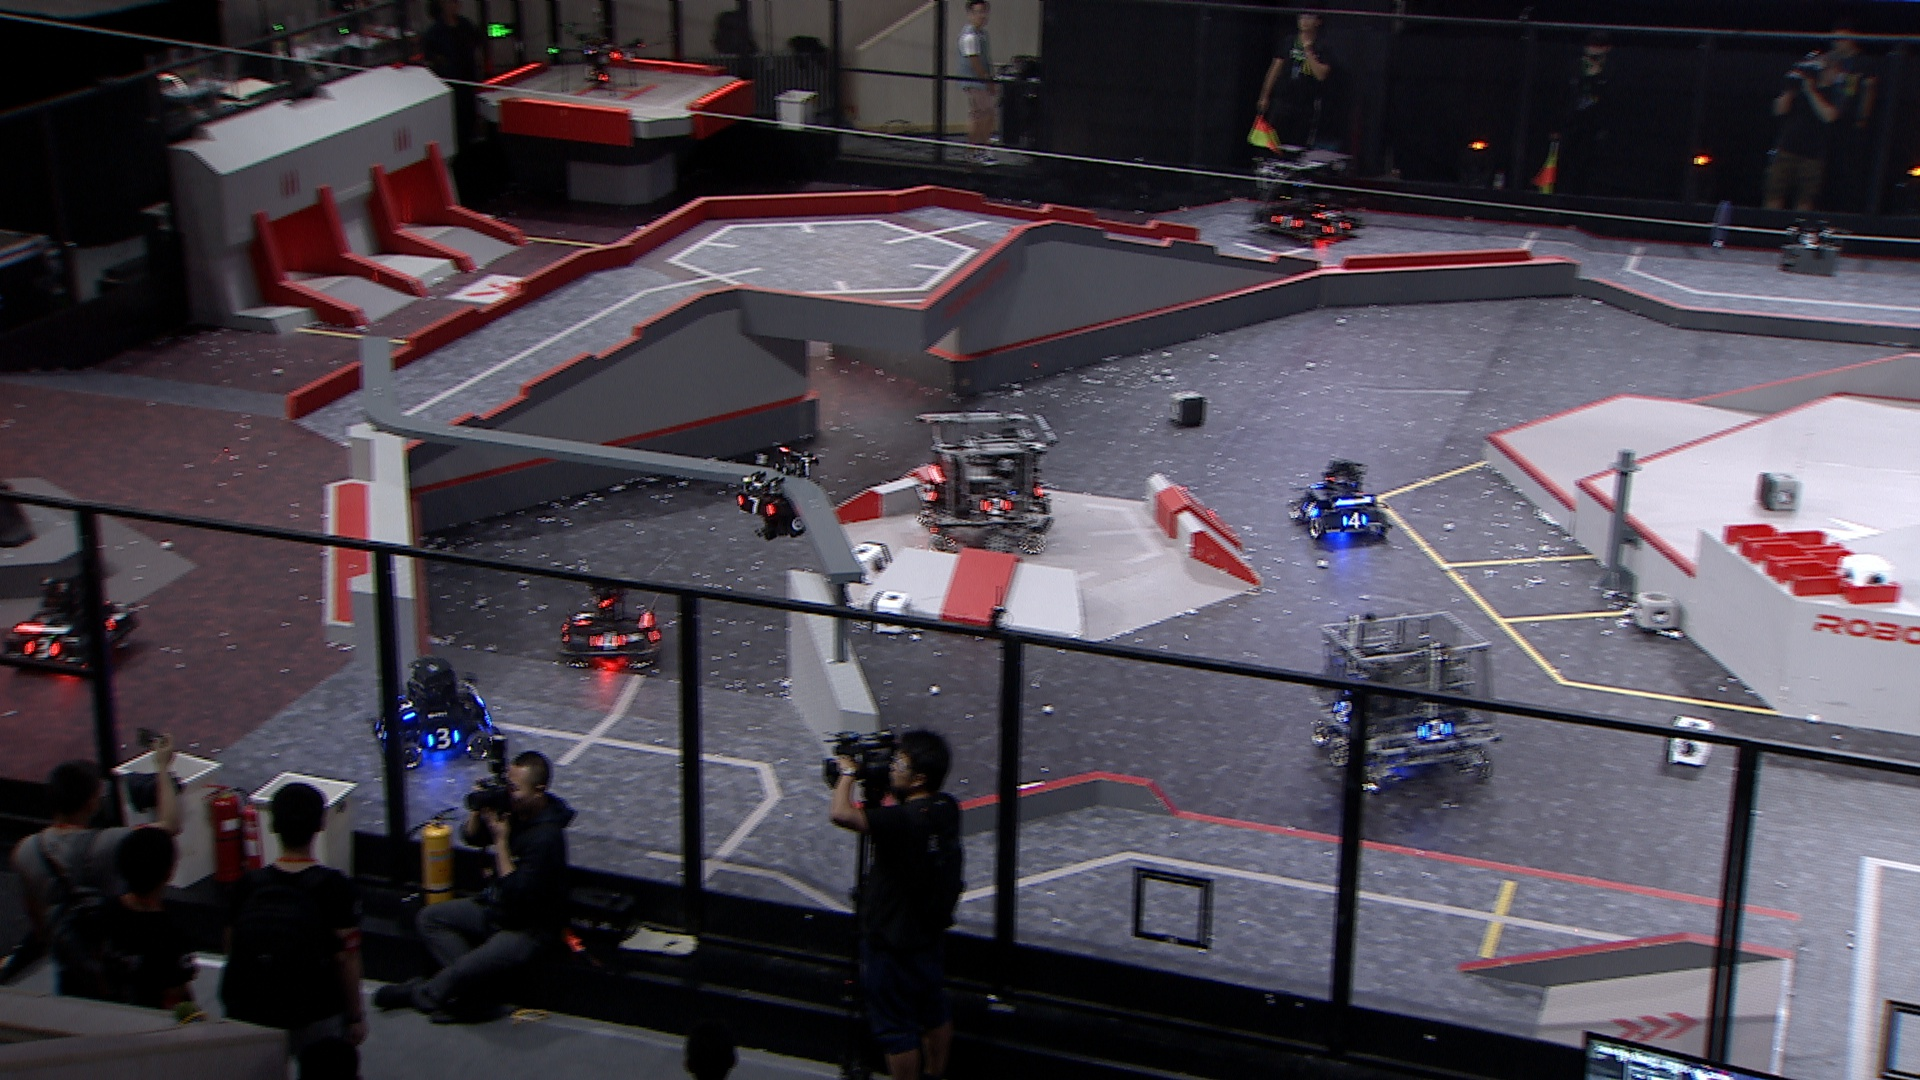armor: (736, 491, 775, 517), (21, 636, 63, 659), (425, 727, 462, 752), (1418, 716, 1452, 741), (588, 632, 628, 651), (978, 495, 1013, 517), (1329, 698, 1356, 725), (394, 695, 417, 725), (1269, 214, 1304, 232), (1342, 509, 1371, 531), (373, 713, 392, 744), (571, 608, 597, 628), (916, 480, 938, 504), (1309, 206, 1342, 220), (1298, 500, 1321, 518), (1320, 220, 1353, 233)
car: (1305, 608, 1501, 798), (906, 409, 1060, 556), (0, 566, 140, 679), (371, 655, 501, 773), (1249, 142, 1365, 245), (551, 575, 665, 669), (1287, 455, 1391, 545)
watcher: (735, 436, 822, 541)
